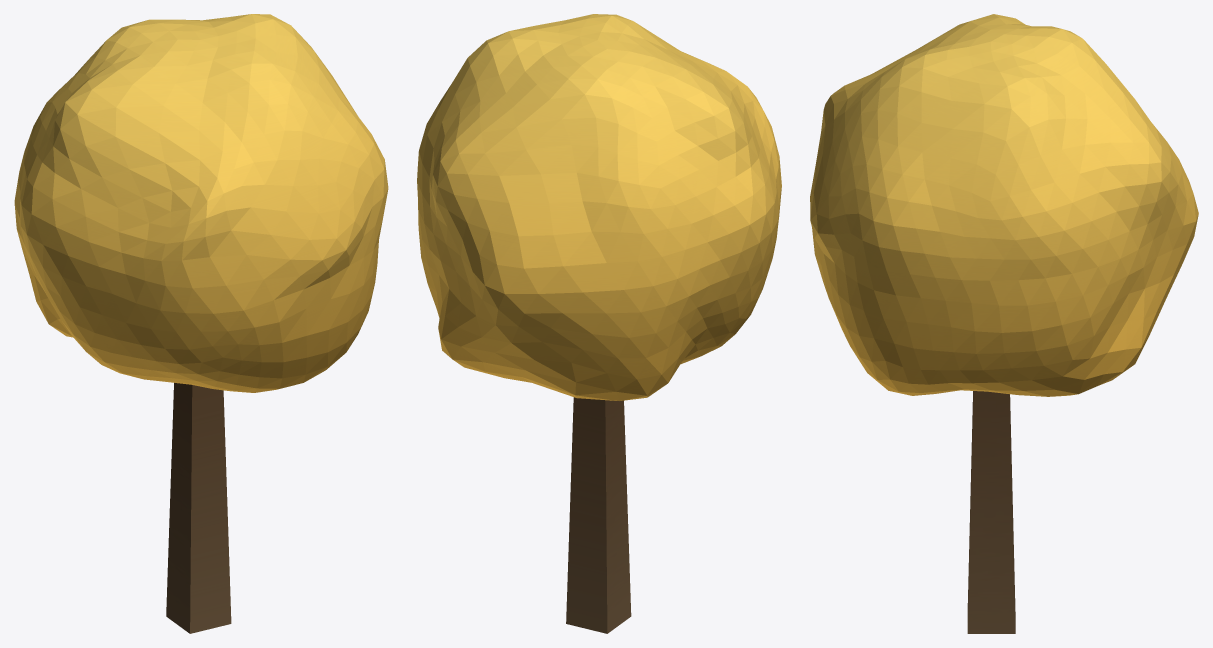
File: small-tree-1.glb
The picture shows the model from 3 angles, left to right: view 1: azimuth 30°, elevation 25°; view 2: azimuth 150°, elevation 25°; view 3: azimuth 270°, elevation 25°; orthographic projection.
Parts seen in each view (by area): view 1: small-tree-1; view 2: small-tree-1; view 3: small-tree-1.
Boxes of the visible parts, bbox=[...] form: small-tree-1: bbox=[14, 14, 388, 633]; small-tree-1: bbox=[417, 14, 781, 633]; small-tree-1: bbox=[810, 14, 1198, 633].
Bounding box in the file's own units: 0.4007 × 0.6864 × 0.4149.
Materials: 1 (1 with a texture image).
